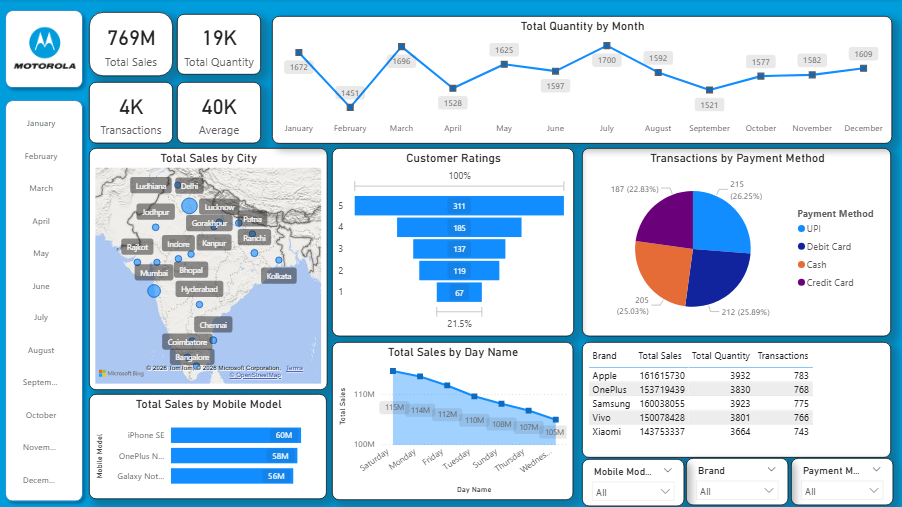

What the dashboard file says about the page in this screenshot:
{"tool":"powerbi","page":{"name":"Page 1","canvas":[1280,720],"ordinal":0},"visuals":[{"type":"shape","box":[0,6.7,127.7,127.7],"z":0},{"type":"image","box":[18.5,23.5,90.7,90.7],"z":1000},{"type":"shape","box":[0,134.4,127.7,586.2],"z":2000},{"type":"slicer","fields":{"Values":["sales_data.Date.Variation.Date Hierarchy.Month"]},"box":[0,147.8,117.6,561],"z":3000},{"type":"card","fields":{"Values":["sales_data.Total Sales"]},"box":[127.7,18.5,119.3,90.7],"z":4000},{"type":"card","fields":{"Values":["sales_data.Total Quantity"]},"box":[252,21.8,119.3,85.7],"z":5000},{"type":"card","fields":{"Values":["sales_data.Transactions"]},"box":[127.7,117.6,119.3,87.3],"z":6000},{"type":"card","fields":{"Values":["sales_data.Average"]},"box":[252,117.6,119.3,87.3],"z":7000},{"type":"map","fields":{"Category":["sales_data.City"],"Size":["sales_data.Total Sales"]},"box":[127.7,211.7,337.6,342.7],"z":8000},{"type":"pieChart","fields":{"Y":["sales_data.Transactions"],"Category":["sales_data.Payment Method"]},"box":[826.5,211.7,438.4,267.1],"z":9000},{"type":"lineChart","fields":{"Y":["sales_data.Total Quantity"],"Category":["sales_data.Date.Variation.Date Hierarchy.Month","sales_data.Date.Variation.Date Hierarchy.Day"]},"box":[386.4,23.5,878.5,181.4],"z":10000},{"type":"clusteredBarChart","fields":{"Category":["sales_data.Mobile Model"],"Y":["sales_data.Total Sales"]},"box":[127.6,559.8,337.3,148.8],"z":11000},{"type":"funnel","title":"Customer Ratings","fields":{"Category":["sales_data.Customer Ratings"],"Y":["CountNonNull(sales_data.Customer Ratings)"]},"box":[472,211.7,342.7,267.1],"z":12000},{"type":"stackedAreaChart","fields":{"Y":["sales_data.Total Sales"],"Category":["sales_data.Day Name"]},"box":[472,486.1,341.6,223.9],"z":13000},{"type":"tableEx","fields":{"Values":["sales_data.Brand","sales_data.Total Sales","sales_data.Total Quantity","sales_data.Transactions"]},"box":[826.3,486.1,438,164.4],"z":13001},{"type":"slicer","fields":{"Values":["sales_data.Payment Method"]},"box":[1122.5,650.6,144.6,66.6],"z":13002},{"type":"slicer","fields":{"Values":["sales_data.Brand"]},"box":[973.7,650.6,144.6,66.6],"z":13003},{"type":"slicer","fields":{"Values":["sales_data.Mobile Model"]},"box":[826.3,652,145,66.6],"z":13004}]}

Visuals, with their boxes in screenshot pixels (x1, y1, x2, y2), scaled from the page's 1280x720 canvas onto the 902x507 screenshot:
shape: detection(0, 5, 90, 95)
image: detection(13, 17, 77, 80)
shape: detection(0, 95, 90, 506)
slicer - sales_data.Date.Variation.Date Hierarchy.Month: detection(0, 104, 83, 499)
card - sales_data.Total Sales: detection(90, 13, 174, 77)
card - sales_data.Total Quantity: detection(178, 15, 262, 76)
card - sales_data.Transactions: detection(90, 83, 174, 144)
card - sales_data.Average: detection(178, 83, 262, 144)
map - sales_data.City x sales_data.Total Sales: detection(90, 149, 328, 390)
pieChart - sales_data.Transactions x sales_data.Payment Method: detection(582, 149, 891, 337)
lineChart - sales_data.Total Quantity x sales_data.Date.Variation.Date Hierarchy.Month: detection(272, 17, 891, 144)
clusteredBarChart - sales_data.Mobile Model x sales_data.Total Sales: detection(90, 394, 328, 499)
"Customer Ratings" funnel: detection(333, 149, 574, 337)
stackedAreaChart - sales_data.Total Sales x sales_data.Day Name: detection(333, 342, 573, 500)
tableEx - sales_data.Brand x sales_data.Total Sales: detection(582, 342, 891, 458)
slicer - sales_data.Payment Method: detection(791, 458, 893, 505)
slicer - sales_data.Brand: detection(686, 458, 788, 505)
slicer - sales_data.Mobile Model: detection(582, 459, 684, 506)
